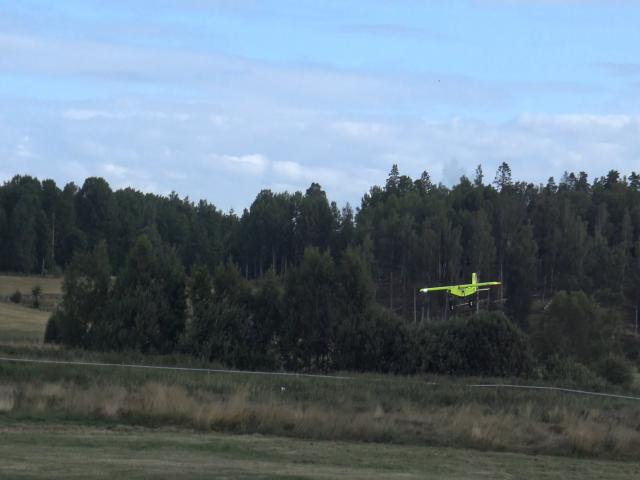plane: (418, 266, 502, 308)
